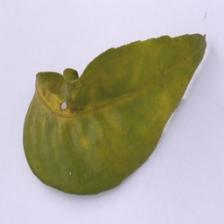greening: (14, 27, 219, 199)
